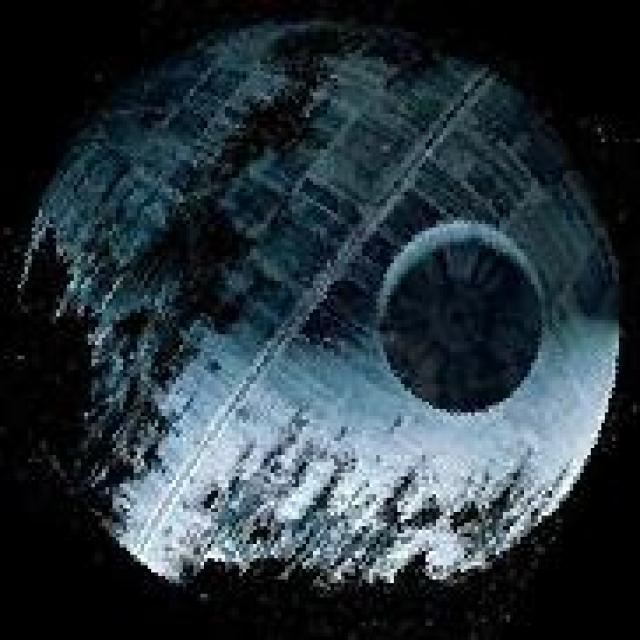Death Star: (11, 4, 636, 598)
